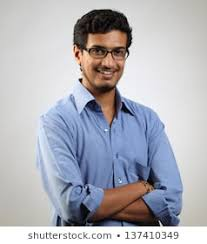Indian_Male: (84, 15, 131, 91)
